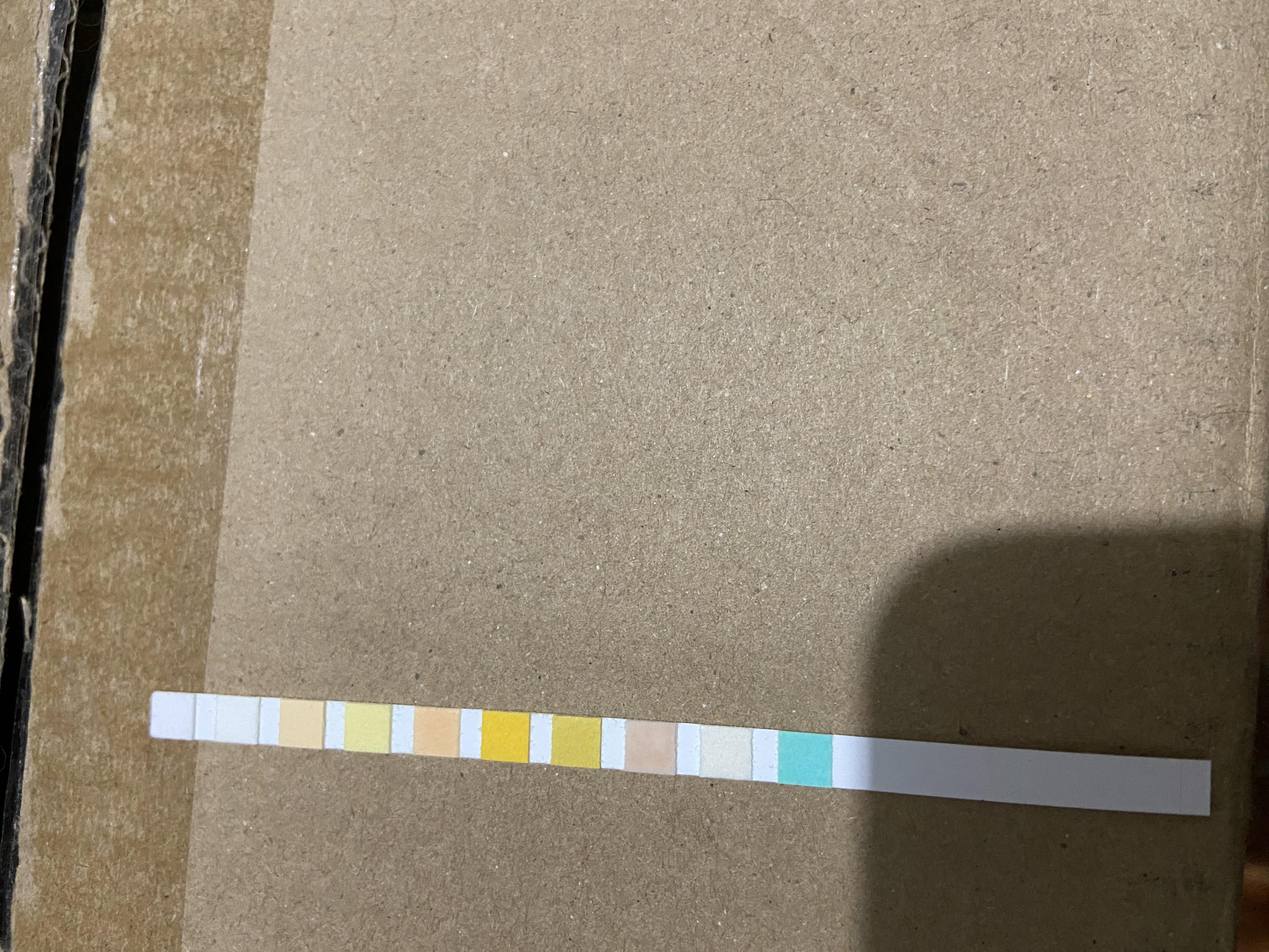Bilirubin: (700, 727, 751, 778)
Blood: (483, 713, 529, 760)
Glucose: (778, 734, 831, 785)
Ketone: (624, 723, 675, 773)
Leukocytes: (153, 692, 193, 738)
Nitrite: (219, 698, 258, 743)
Protein: (346, 704, 389, 751)
SpGravity: (552, 718, 599, 766)
Urobilinogen: (282, 701, 323, 747)
pH: (415, 709, 459, 756)
strip: (149, 691, 1211, 817)
